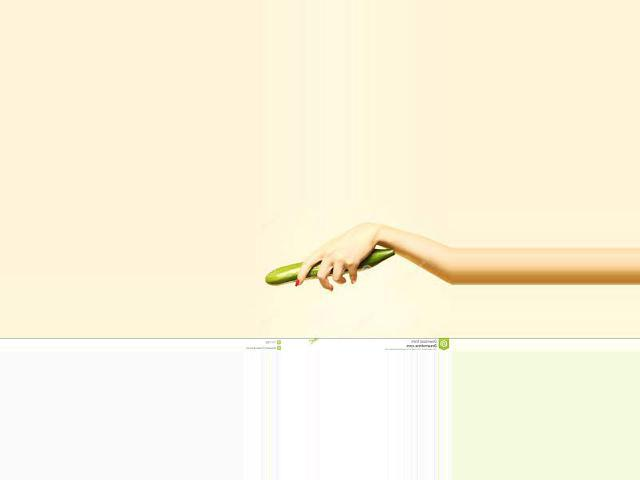cucumber: (265, 249, 396, 286)
